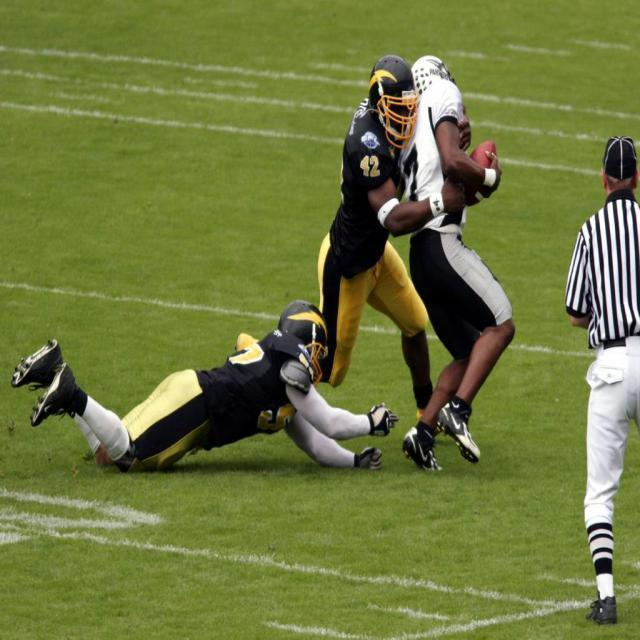ball: (468, 136, 496, 169)
